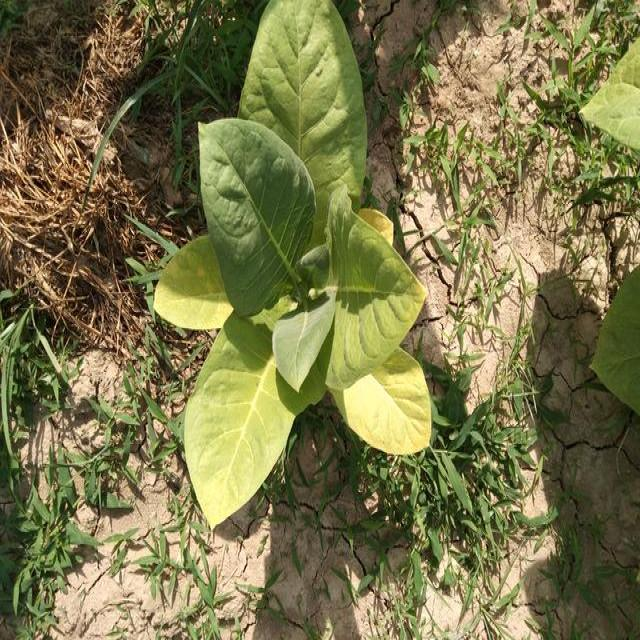crop: (140, 0, 439, 530)
